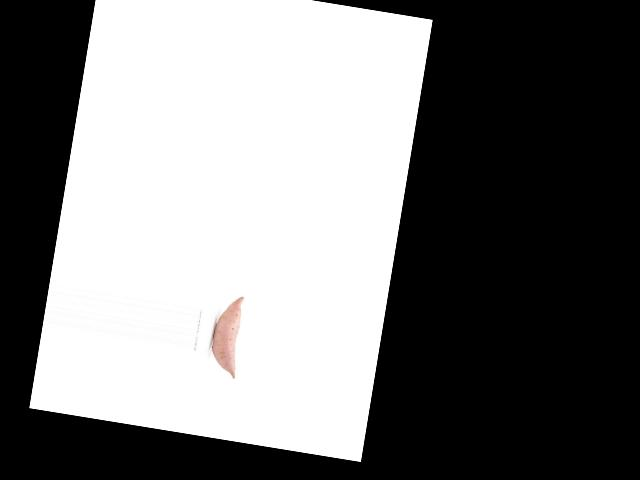sweet_potato: (206, 292, 252, 380)
